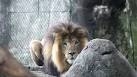lion: (29, 26, 86, 74)
